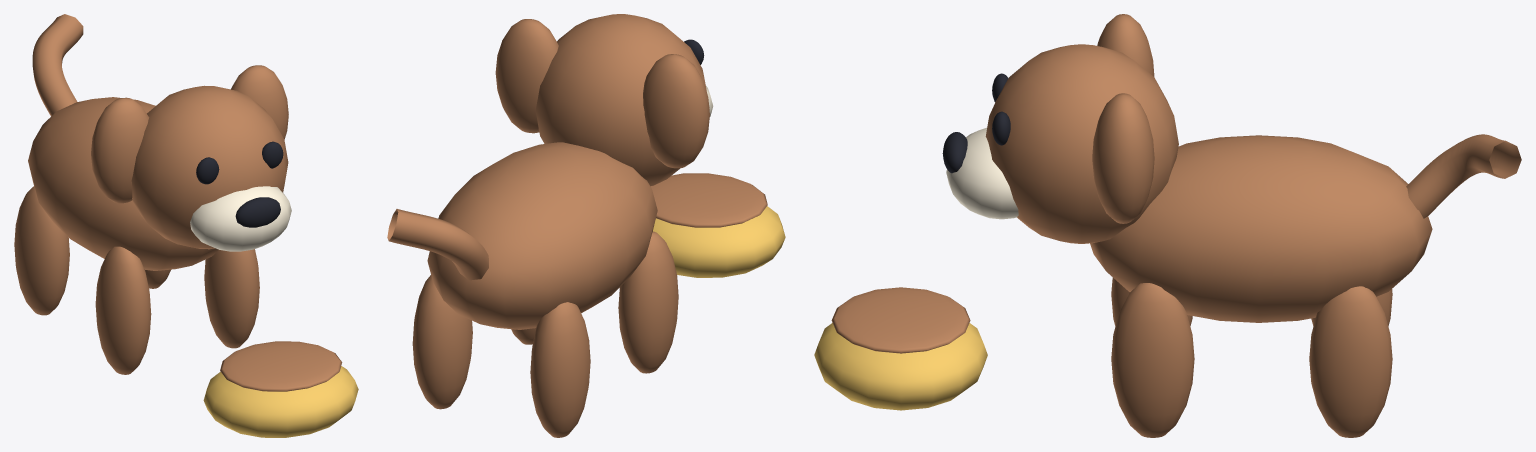
Rendered from dog-eat.glb.
The picture shows the model from 3 angles, left to right: view 1: azimuth 30°, elevation 25°; view 2: azimuth 150°, elevation 25°; view 3: azimuth 270°, elevation 25°; orthographic projection. The views are drawn at different scales.
Parts seen in each view (by area): view 1: animal head, round animal body, dog bowl, little paw, little paw.001, food, little paw.002, animal ear, muzzle, tail, animal ear.001, nose (+3 smaller); view 2: round animal body, animal head, little paw.001, little paw, animal ear, dog bowl, little paw.003, food, animal ear.001, tail; view 3: round animal body, animal head, little paw.002, little paw.003, dog bowl, food, animal ear.001, tail, muzzle, animal ear, nose.
Boxes of the visible parts, bbox=[...] form: animal head: bbox=[131, 85, 288, 249]; round animal body: bbox=[28, 97, 218, 270]; dog bowl: bbox=[203, 366, 358, 437]; little paw: bbox=[95, 246, 151, 374]; little paw.001: bbox=[14, 186, 69, 315]; food: bbox=[220, 341, 342, 391]; little paw.002: bbox=[204, 249, 259, 348]; animal ear: bbox=[91, 97, 149, 203]; muzzle: bbox=[190, 186, 291, 251]; tail: bbox=[32, 14, 83, 116]; animal ear.001: bbox=[231, 65, 288, 139]; nose: bbox=[235, 197, 280, 227]; round animal body: bbox=[427, 142, 657, 329]; animal head: bbox=[535, 14, 709, 186]; little paw.001: bbox=[530, 302, 590, 437]; little paw: bbox=[618, 231, 678, 373]; animal ear: bbox=[643, 54, 709, 168]; dog bowl: bbox=[653, 206, 785, 277]; little paw.003: bbox=[412, 275, 472, 409]; food: bbox=[650, 173, 767, 227]; animal ear.001: bbox=[495, 19, 558, 133]; tail: bbox=[387, 209, 488, 280]; round animal body: bbox=[1090, 135, 1432, 322]; animal head: bbox=[985, 44, 1178, 243]; little paw.002: bbox=[1111, 283, 1194, 437]; little paw.003: bbox=[1309, 286, 1392, 437]; dog bowl: bbox=[814, 323, 987, 410]; food: bbox=[831, 287, 970, 353]; animal ear.001: bbox=[1092, 93, 1154, 223]; tail: bbox=[1406, 134, 1521, 218]; muzzle: bbox=[946, 127, 1018, 219]; animal ear: bbox=[1097, 14, 1154, 76]; nose: bbox=[942, 132, 967, 173].
Size of the model in its own units: 0.78 by 1.12 by 2.04.
